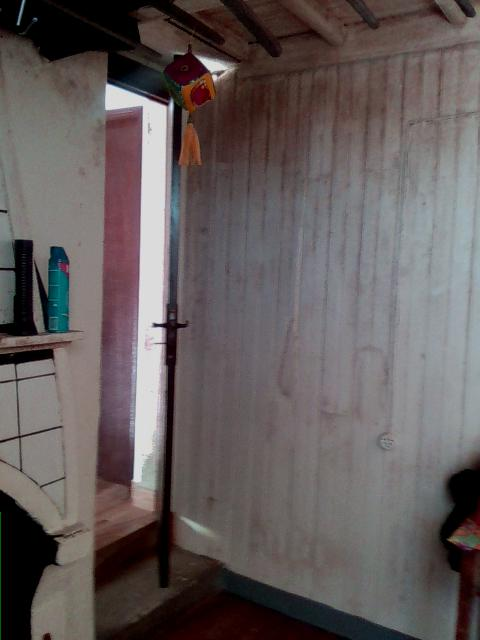semi_door: (91, 70, 187, 599)
